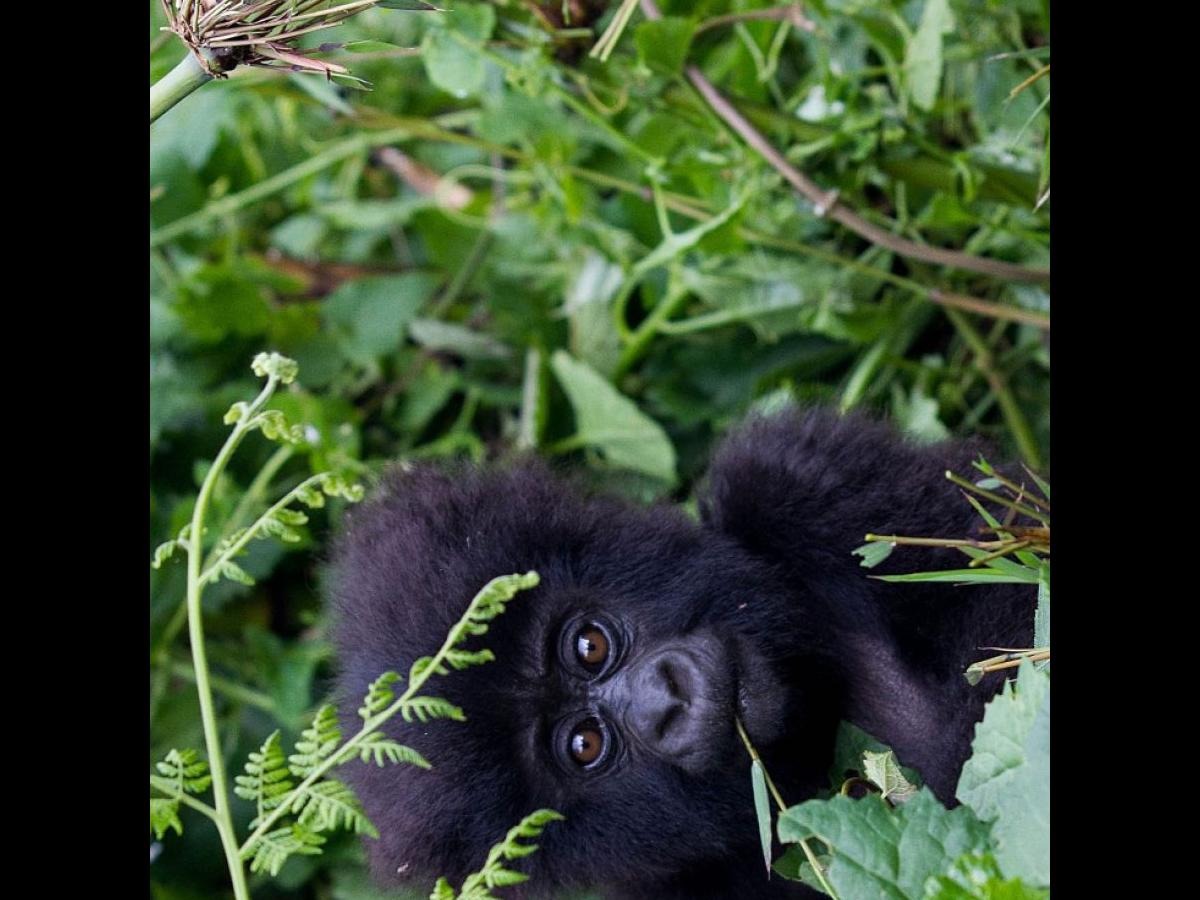goriile_montagne: (293, 314, 1037, 900)
